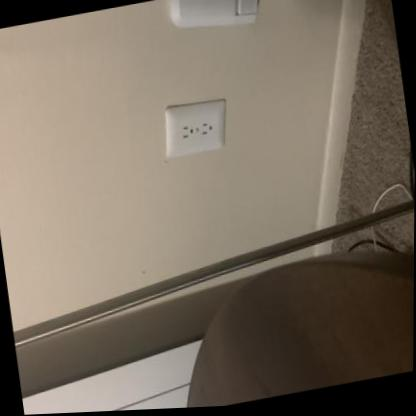OUTLET: (158, 94, 233, 160)
